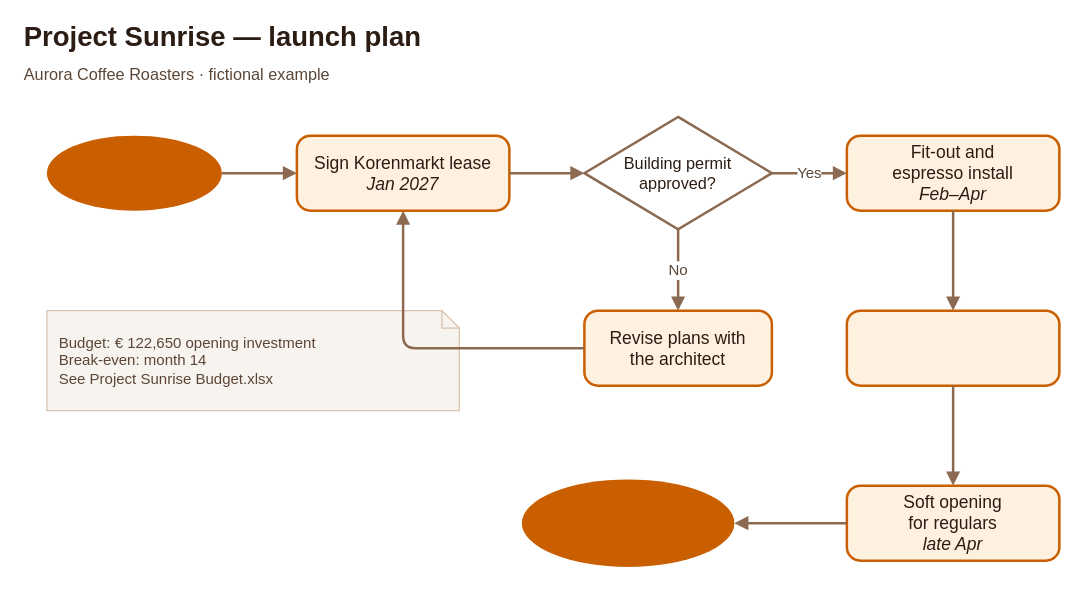
Image size: 1081x589. Some labels were removed from this diagram. The centre of each missing label's shape, as x and y in pixels:
"Board approval" belongs at (x=133, y=172).
"Hire and train 6.5 FTE baristas Feb–Apr" belongs at (x=952, y=347).
"Public opening 1 May 2027" belongs at (x=627, y=522).
